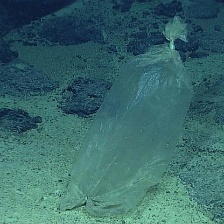plastic_bag: (53, 13, 202, 220)
